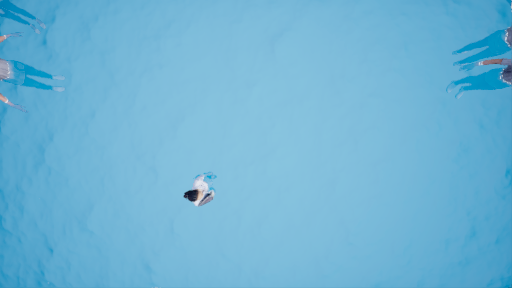person: (1, 34, 42, 111), (176, 162, 227, 218), (445, 59, 512, 90)
